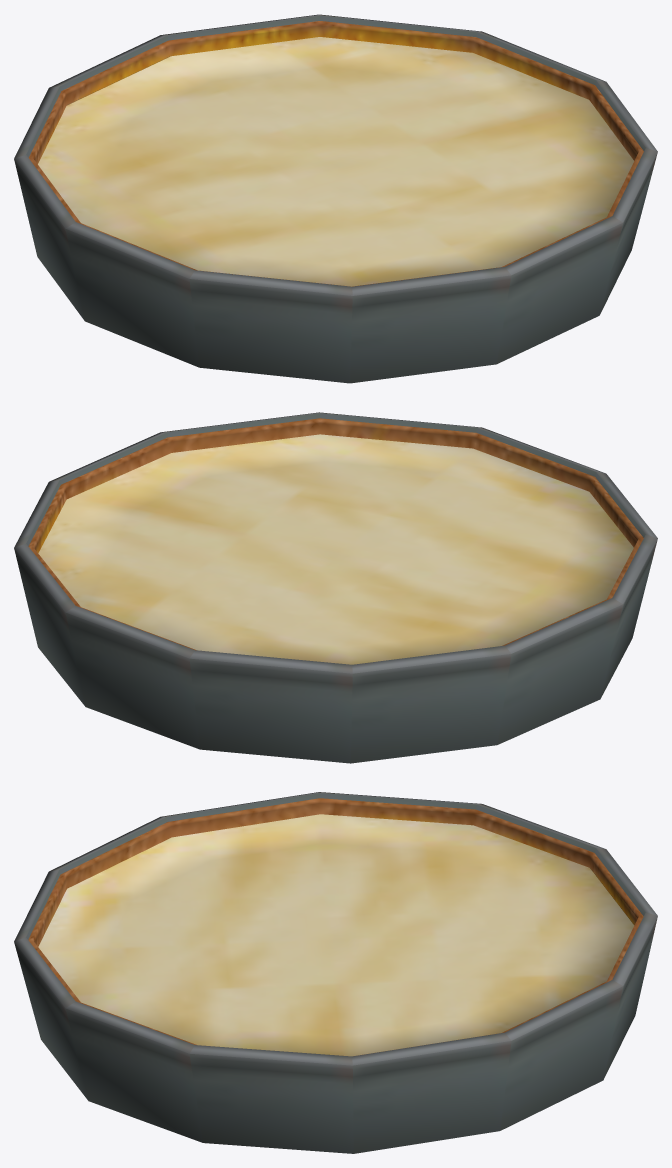
The model's file is CakePan_Cheesecake.fbx.
The picture shows the model from 3 angles, top to bottom: view 1: azimuth 30°, elevation 25°; view 2: azimuth 150°, elevation 25°; view 3: azimuth 270°, elevation 25°; orthographic projection.
Visible parts, largest first — view 1: Cake; view 2: Cake; view 3: Cake.
Part boxes in pixels (x1,y1,x2,y2): Cake: [14, 14, 657, 383]; Cake: [14, 412, 657, 763]; Cake: [14, 792, 657, 1153].
Size of the model in its own units: 57.38 by 11.21 by 57.37.
